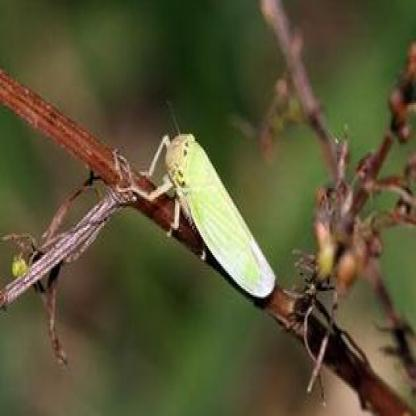Green-Leafhopper: (124, 127, 278, 303)
